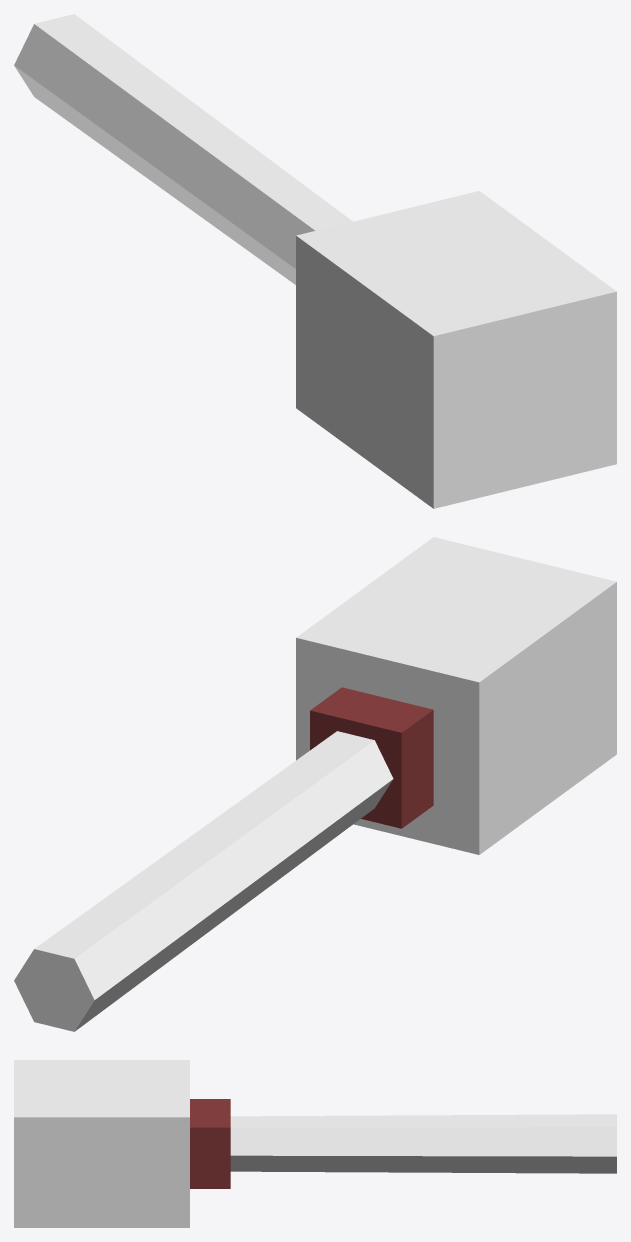
File: SM_NPC_Prop_Hammer.glb
3 renders of one model, top to bottom at view 1: azimuth 30°, elevation 25°; view 2: azimuth 150°, elevation 25°; view 3: azimuth 270°, elevation 25°, orthographic. The views are drawn at different scales.
Visible parts, largest first — view 1: asset_npc_prop_hammer; view 2: asset_npc_prop_hammer; view 3: asset_npc_prop_hammer.
Boxes of the visible parts, box(x1,y1,x2,y2) form: asset_npc_prop_hammer: box(14, 14, 616, 508); asset_npc_prop_hammer: box(14, 537, 616, 1031); asset_npc_prop_hammer: box(14, 1060, 616, 1227).
Bounding box in the file's own units: 0.1 × 0.09 × 0.445.
Materials: 1 (1 with a texture image).
